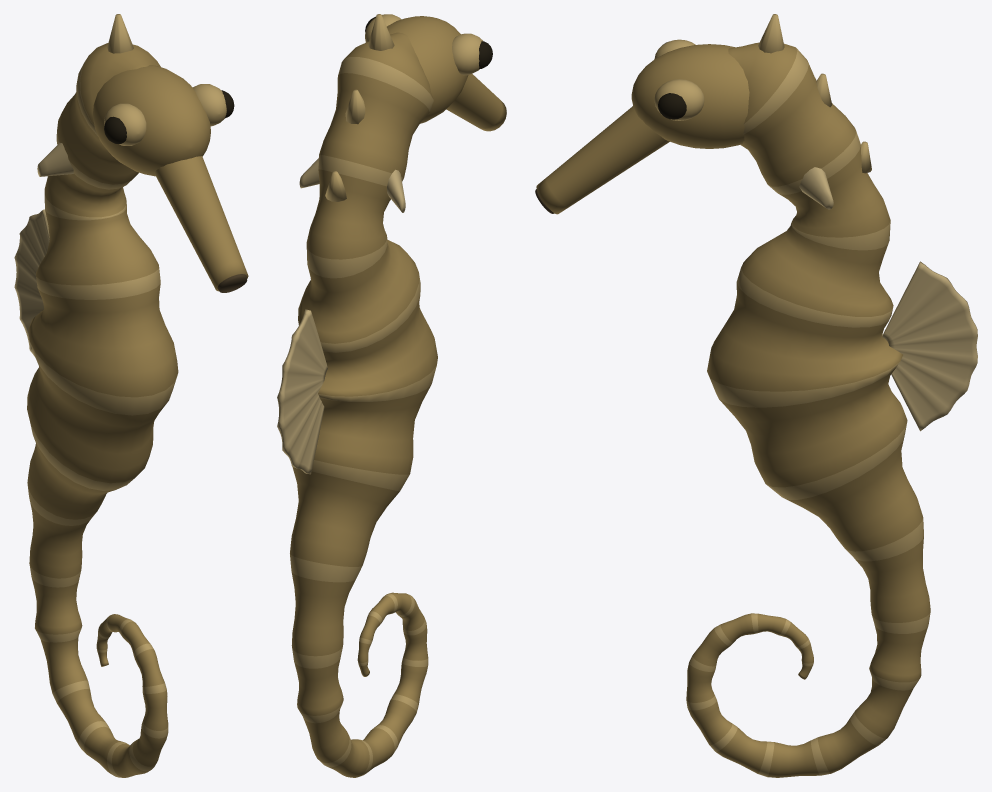
3 renders of one model, left to right at view 1: azimuth 30°, elevation 25°; view 2: azimuth 150°, elevation 25°; view 3: azimuth 270°, elevation 25°, orthographic. The views are drawn at different scales.
Visible parts, largest first — view 1: Continuous_plated_trunk_and_coiled_tail, Horse_like_cheek_head, Tubular_downward_snout, Dorsal_fin_fan, Left_bulging_eye_socket, Right_bulging_eye_socket, Left_pectoral_fin, Coronet_crest_0, Left_glossy_eye; view 2: Continuous_plated_trunk_and_coiled_tail, Dorsal_fin_fan, Horse_like_cheek_head, Tubular_downward_snout, Left_bulging_eye_socket, Coronet_crest_0, Left_pectoral_fin, Coronet_crest_1, Coronet_crest_2; view 3: Continuous_plated_trunk_and_coiled_tail, Dorsal_fin_fan, Horse_like_cheek_head, Tubular_downward_snout, Right_bulging_eye_socket, Right_pectoral_fin.
Part boxes in pixels (x1,y1,x2,y2): Continuous_plated_trunk_and_coiled_tail: (27,43,178,777); Horse_like_cheek_head: (93,65,210,176); Tubular_downward_snout: (154,156,248,291); Dorsal_fin_fan: (14,209,49,357); Left_bulging_eye_socket: (104,103,146,145); Right_bulging_eye_socket: (193,84,226,126); Left_pectoral_fin: (37,142,73,176); Coronet_crest_0: (107,14,133,53); Left_glossy_eye: (104,116,126,143); Continuous_plated_trunk_and_coiled_tail: (290,32,437,777); Dorsal_fin_fan: (277,309,327,474); Horse_like_cheek_head: (387,16,468,123); Tubular_downward_snout: (446,74,506,131); Left_bulging_eye_socket: (452,33,482,75); Coronet_crest_0: (368,14,394,50); Left_pectoral_fin: (387,169,405,212); Coronet_crest_1: (345,89,365,124); Coronet_crest_2: (325,171,346,201); Continuous_plated_trunk_and_coiled_tail: (686,42,930,777); Dorsal_fin_fan: (882,261,977,431); Horse_like_cheek_head: (631,44,749,148); Tubular_downward_snout: (536,106,669,214); Right_bulging_eye_socket: (654,79,704,120); Right_pectoral_fin: (799,167,833,209).
Size of the model in its own units: 0.0242 by 0.1403 by 0.0739.
